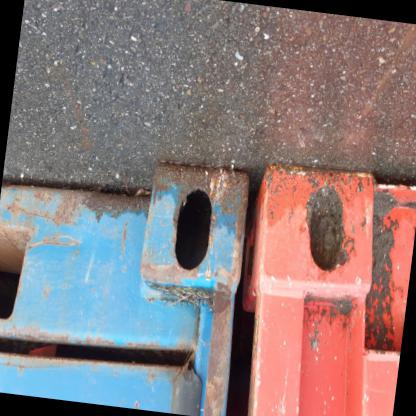CornerCasting: (243, 155, 380, 327), (134, 160, 252, 314)
